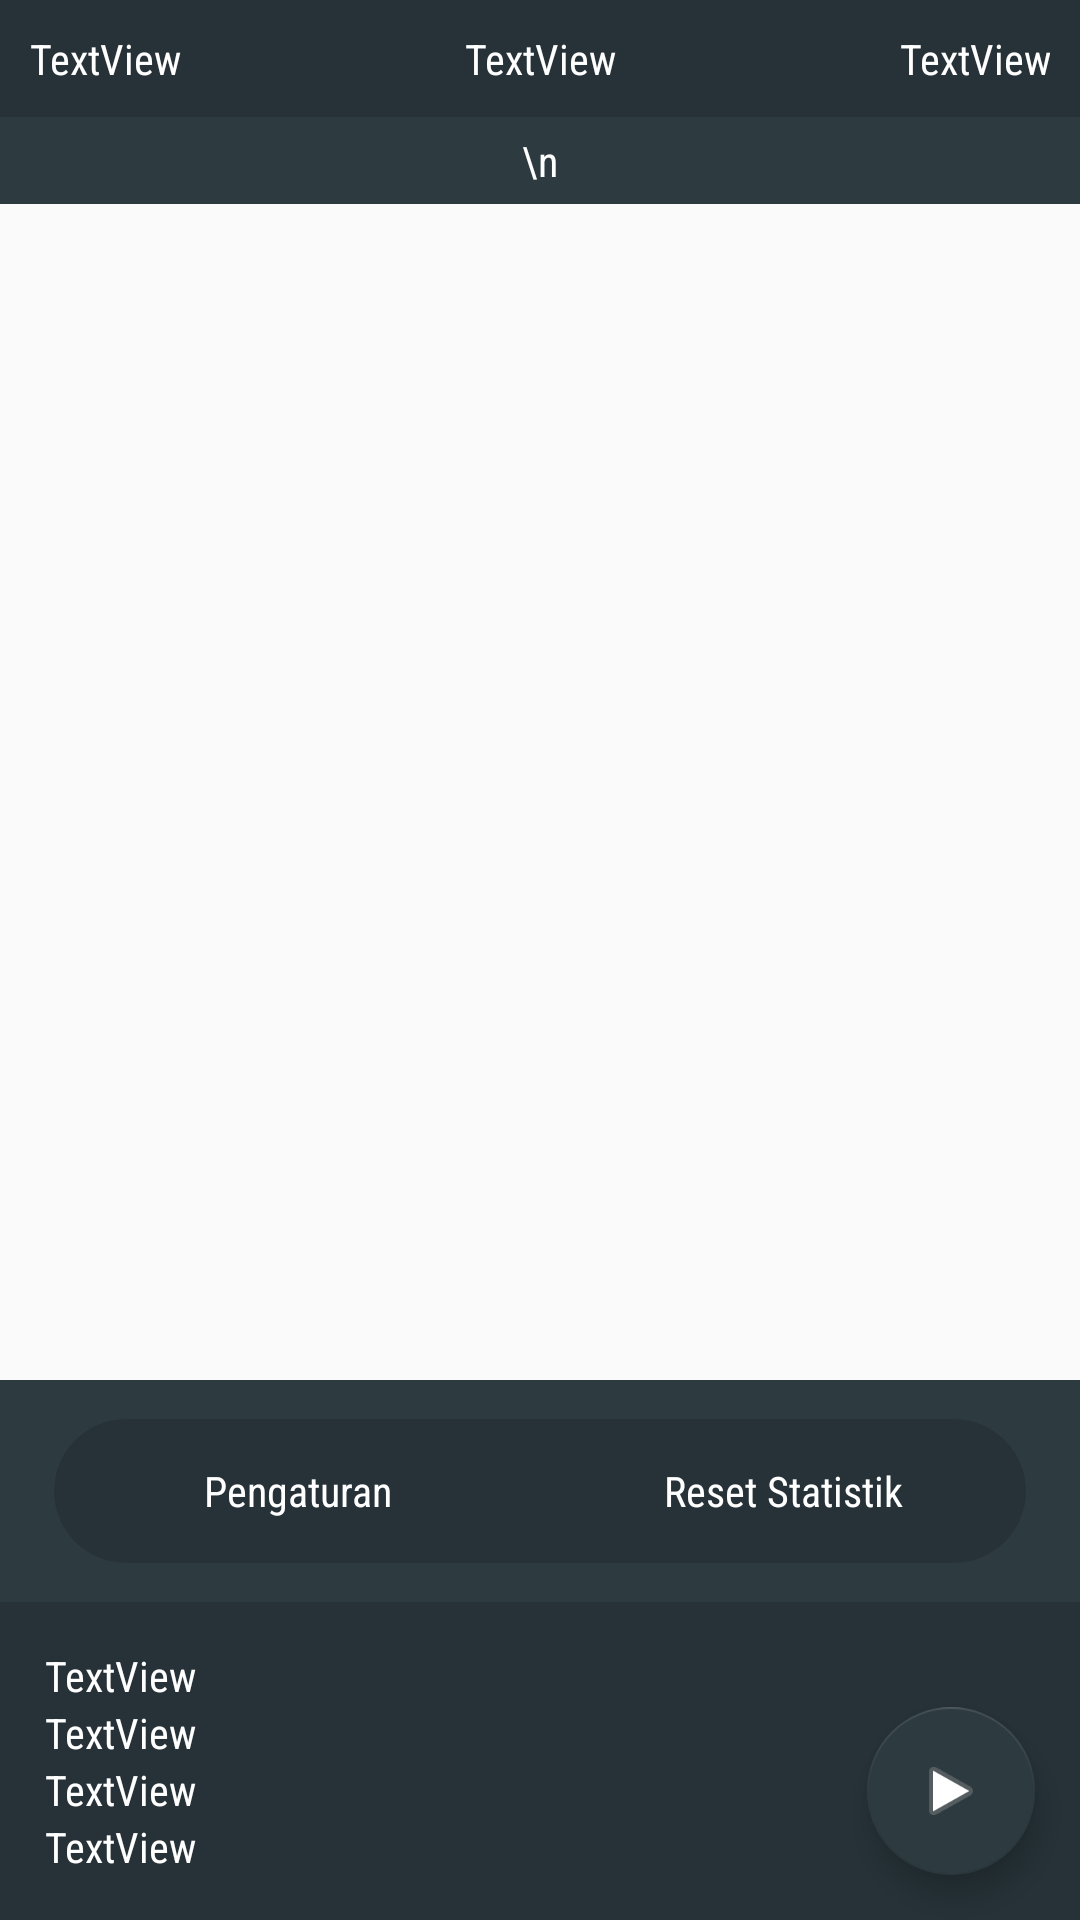

Where to tap for icons on this 1080 × 1920 app screen, as (x,y):
play: (951,1791)
